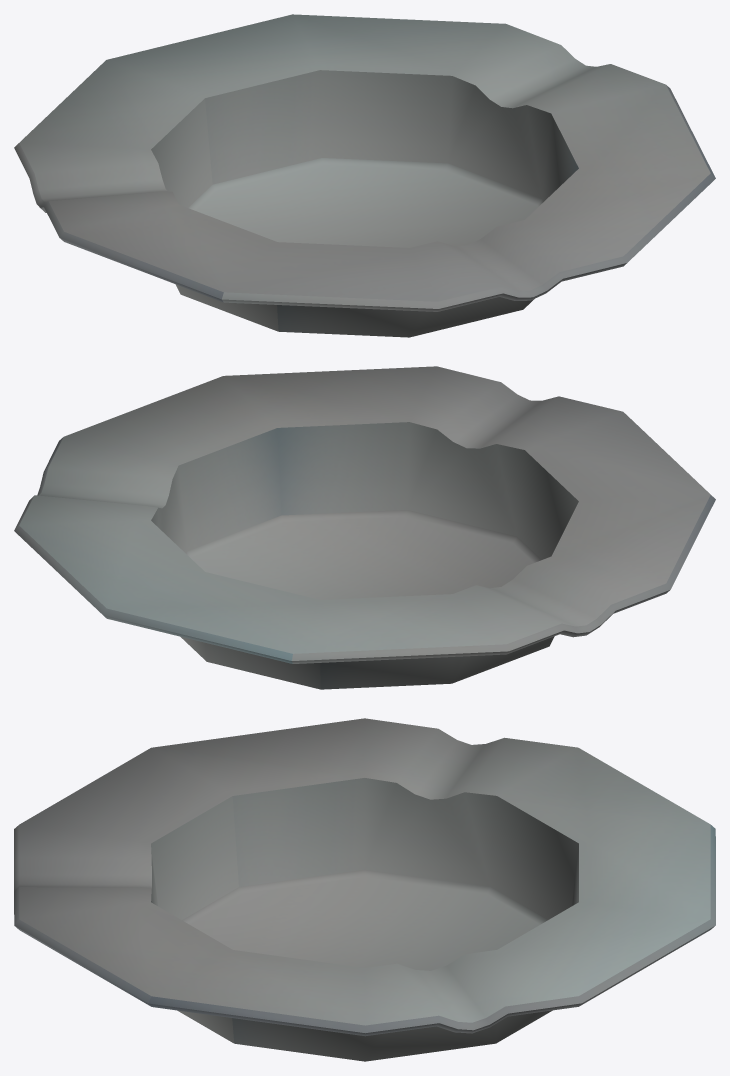
The model's file is prop_ashtray02a.fbx.
The picture shows the model from 3 angles, top to bottom: view 1: azimuth 30°, elevation 25°; view 2: azimuth 150°, elevation 25°; view 3: azimuth 270°, elevation 25°; orthographic projection. The views are drawn at different scales.
Parts seen in each view (by area): view 1: prop_ashtray02a; view 2: prop_ashtray02a; view 3: prop_ashtray02a.
Part boxes in pixels (<box>): prop_ashtray02a: <box>14,14,715,337</box>; prop_ashtray02a: <box>14,366,715,689</box>; prop_ashtray02a: <box>14,718,715,1061</box>.
Bounding box in the file's own units: 0.2181 × 0.032 × 0.2074.
